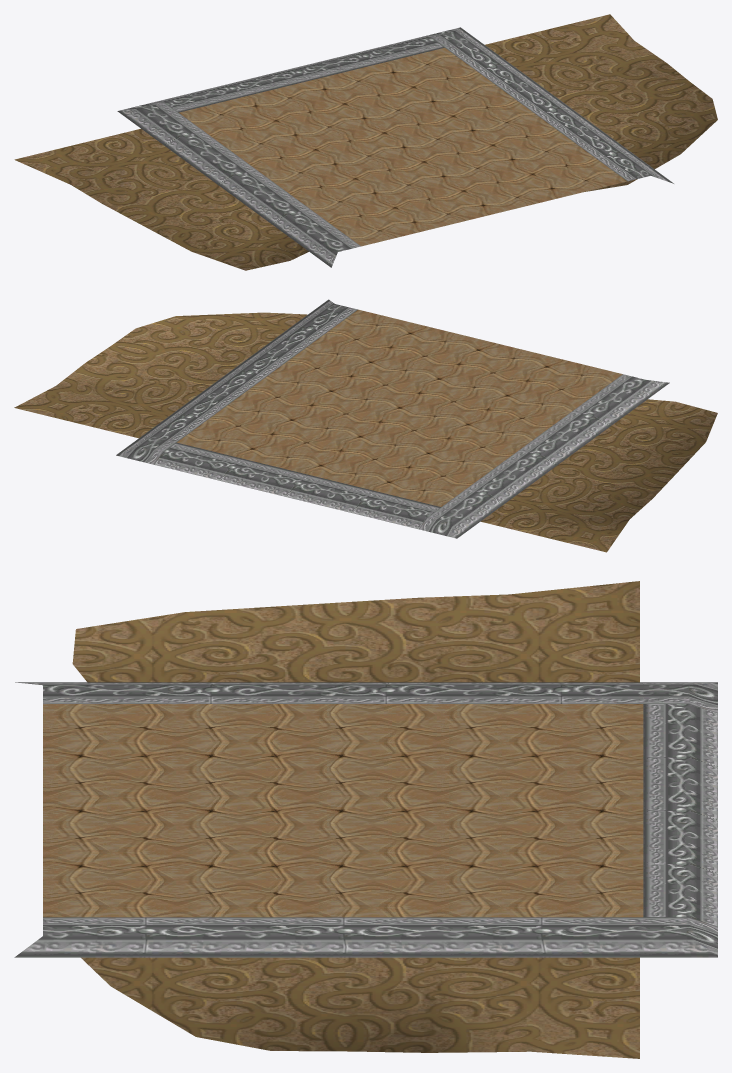
File: EKH_THRONE_PS_TH_FLOOR847846__GX.fbx
3 views of the same model, one above another, from view 1: azimuth 30°, elevation 25°; view 2: azimuth 150°, elevation 25°; view 3: azimuth 270°, elevation 25° (orthographic). The views are drawn at different scales.
Parts seen in each view (by area): view 1: EKH_THRONE_PS_TH_FLOOR847846__GX; view 2: EKH_THRONE_PS_TH_FLOOR847846__GX; view 3: EKH_THRONE_PS_TH_FLOOR847846__GX.
Part boxes in pixels (x1,y1,x2,y2): EKH_THRONE_PS_TH_FLOOR847846__GX: (14,14,717,270); EKH_THRONE_PS_TH_FLOOR847846__GX: (14,299,717,552); EKH_THRONE_PS_TH_FLOOR847846__GX: (14,581,717,1058).
Size of the model in its own units: 55014 by 521 by 34243.
3 materials, 3 textured.
